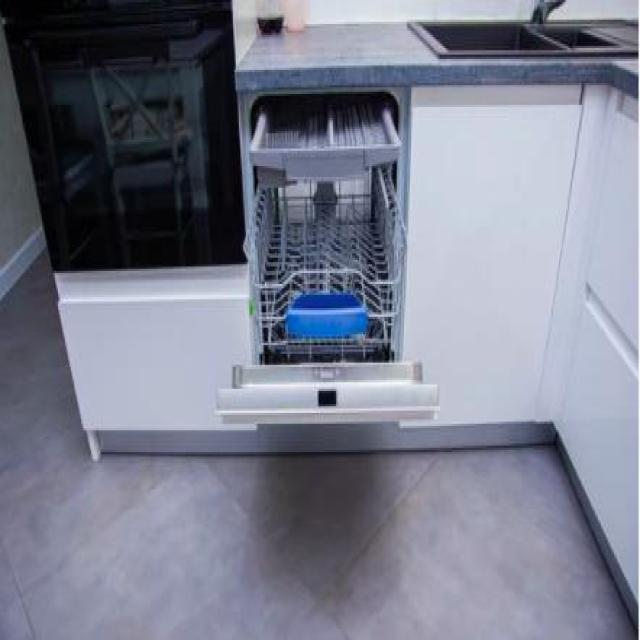dishwasher: (214, 85, 442, 422)
